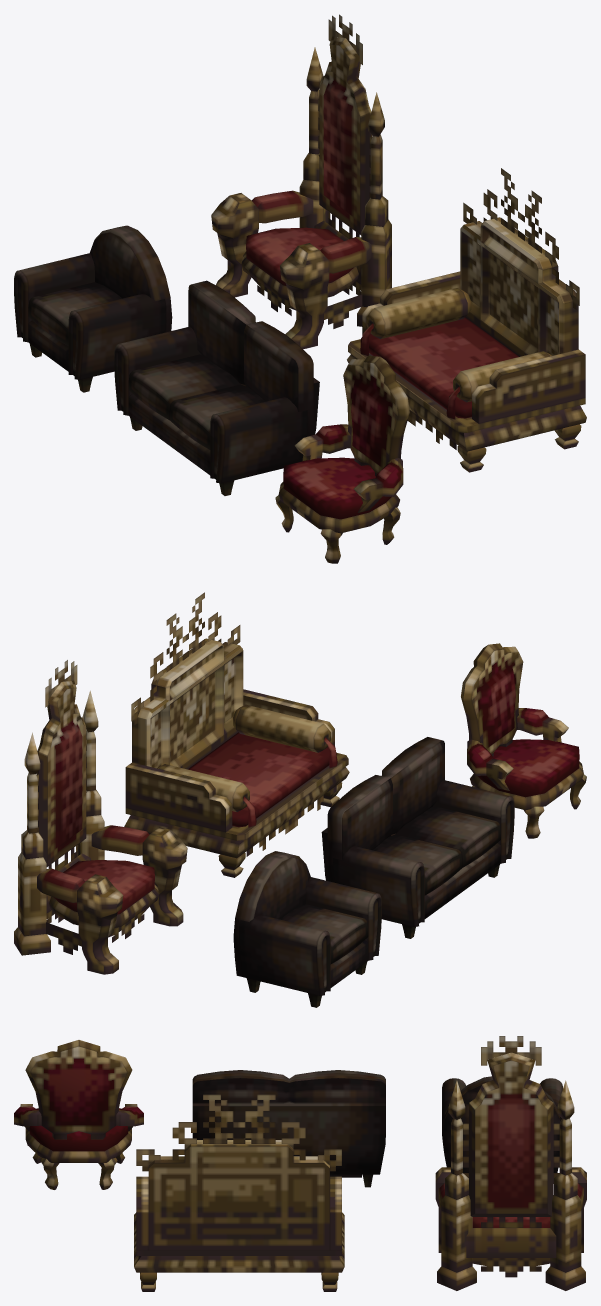
The model's file is EnvObjMD_Chair_Sofa_A_OneSeat.FBX.
The picture shows the model from 3 angles, top to bottom: view 1: azimuth 30°, elevation 25°; view 2: azimuth 150°, elevation 25°; view 3: azimuth 270°, elevation 25°; orthographic projection. The views are drawn at different scales.
Visible parts, largest first — view 1: EnvObjMD_Chair_Throne_B, EnvObjMD_Chair_Throne_A, EnvObjMD_Chair_Sofa_A_TwoSeat, EnvObjMD_Chair_Sofa_A_OneSeat, EnvObjMD_Chair_Theater_A_Red; view 2: EnvObjMD_Chair_Throne_B, EnvObjMD_Chair_Throne_A, EnvObjMD_Chair_Sofa_A_TwoSeat, EnvObjMD_Chair_Sofa_A_OneSeat, EnvObjMD_Chair_Theater_A_Red; view 3: EnvObjMD_Chair_Throne_B, EnvObjMD_Chair_Throne_A, EnvObjMD_Chair_Sofa_A_TwoSeat, EnvObjMD_Chair_Theater_A_Red, EnvObjMD_Chair_Sofa_A_OneSeat.
Part boxes in pixels (x1,y1,x2,y2): EnvObjMD_Chair_Throne_B: [347, 168, 586, 472]; EnvObjMD_Chair_Throne_A: [211, 14, 391, 349]; EnvObjMD_Chair_Sofa_A_TwoSeat: [114, 280, 319, 495]; EnvObjMD_Chair_Sofa_A_OneSeat: [14, 225, 172, 392]; EnvObjMD_Chair_Theater_A_Red: [275, 355, 409, 563]; EnvObjMD_Chair_Throne_B: [124, 592, 349, 877]; EnvObjMD_Chair_Throne_A: [14, 660, 187, 974]; EnvObjMD_Chair_Sofa_A_TwoSeat: [321, 737, 514, 938]; EnvObjMD_Chair_Sofa_A_OneSeat: [233, 851, 381, 1007]; EnvObjMD_Chair_Theater_A_Red: [461, 643, 586, 838]; EnvObjMD_Chair_Throne_B: [134, 1094, 344, 1291]; EnvObjMD_Chair_Throne_A: [435, 1036, 586, 1290]; EnvObjMD_Chair_Sofa_A_TwoSeat: [192, 1070, 385, 1187]; EnvObjMD_Chair_Theater_A_Red: [14, 1040, 143, 1189]; EnvObjMD_Chair_Sofa_A_OneSeat: [442, 1076, 562, 1172].
Bounding box in the file's own units: 280 × 225 × 474.
4 materials, 4 textured.
